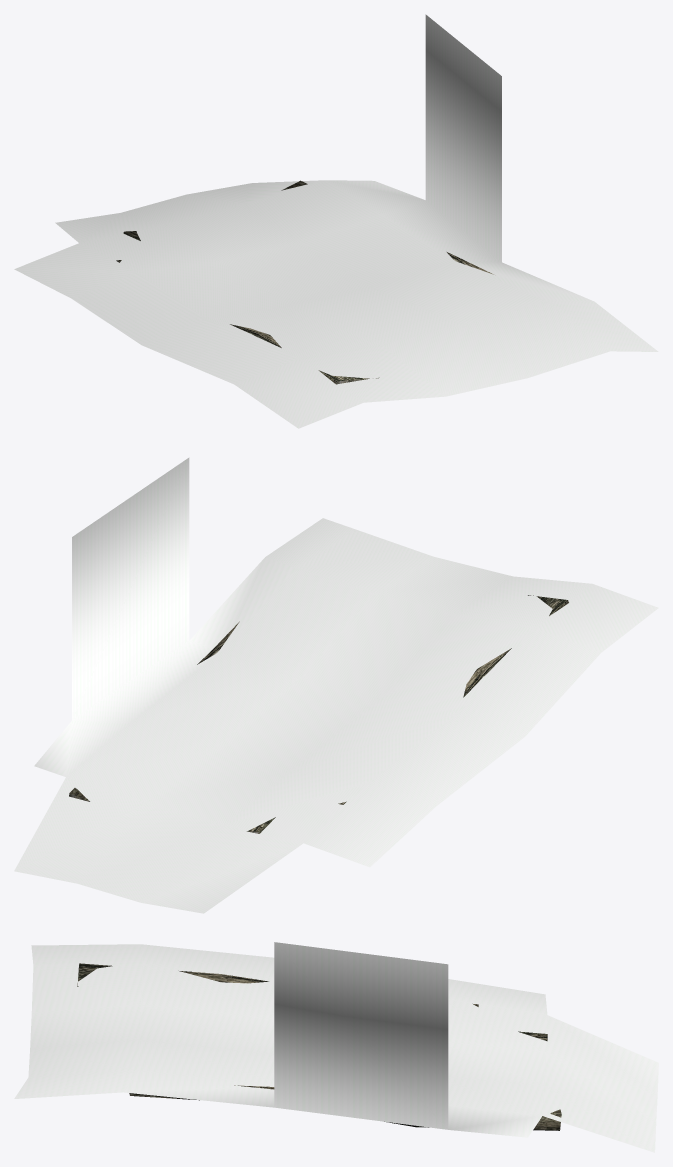
The model's file is ADDON_GOLDMINE_BRIDGE.glb.
3 renders of one model, top to bottom at view 1: azimuth 30°, elevation 25°; view 2: azimuth 150°, elevation 25°; view 3: azimuth 270°, elevation 25°, orthographic. The views are drawn at different scales.
Parts seen in each view (by area): view 1: Mesh; view 2: Mesh; view 3: Mesh.
Boxes of the visible parts, bbox=[...] form: Mesh: bbox=[14, 14, 658, 428]; Mesh: bbox=[14, 457, 658, 913]; Mesh: bbox=[14, 942, 658, 1152].
Size of the model in its own units: 4.41 by 2.89 by 7.45.
Materials: 3 (3 with a texture image).
